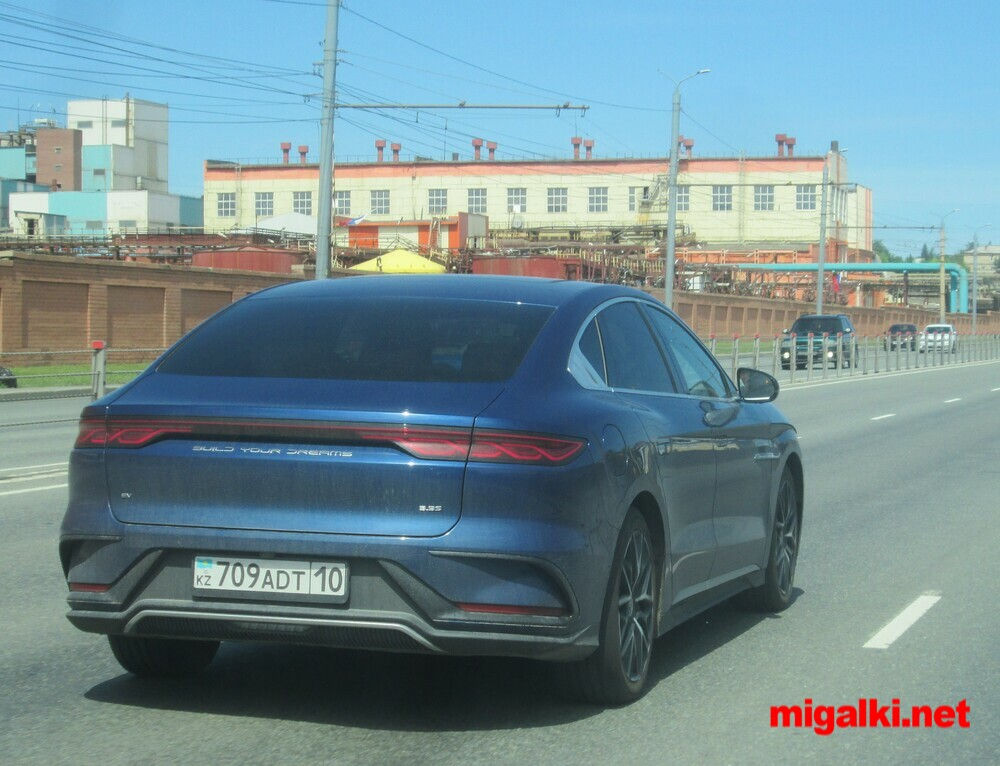license_plate: (191, 553, 352, 600)
